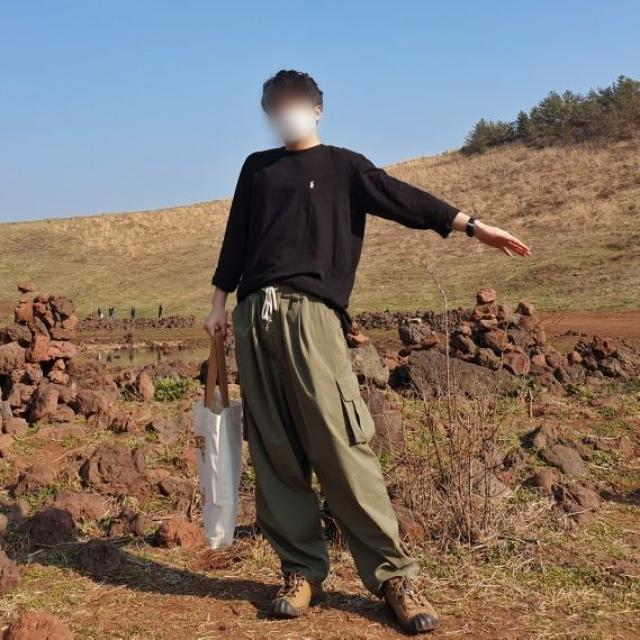cottonpants: (232, 285, 418, 600)
longsleeve: (210, 144, 457, 340)
